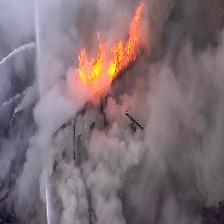fire: (76, 4, 140, 89)
smoke: (23, 6, 224, 216)
